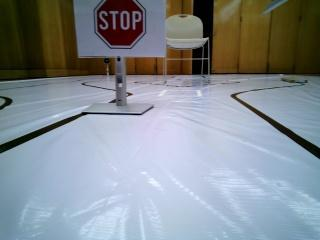stop: (74, 4, 163, 59)
